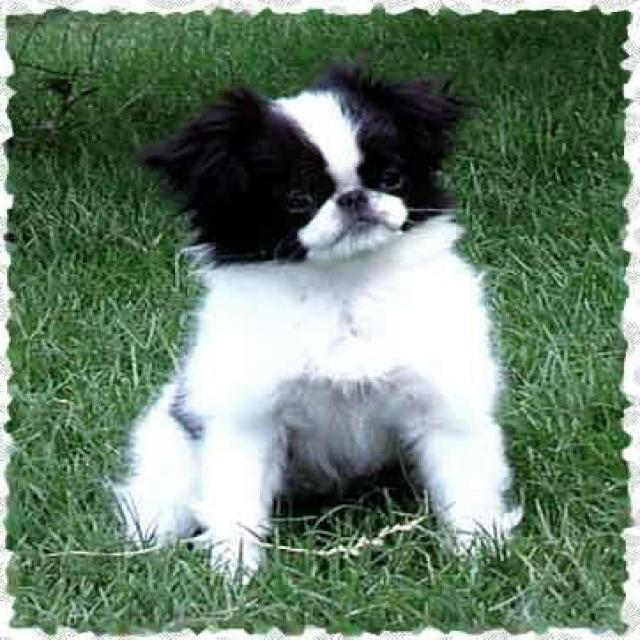husky: (106, 48, 534, 591)
